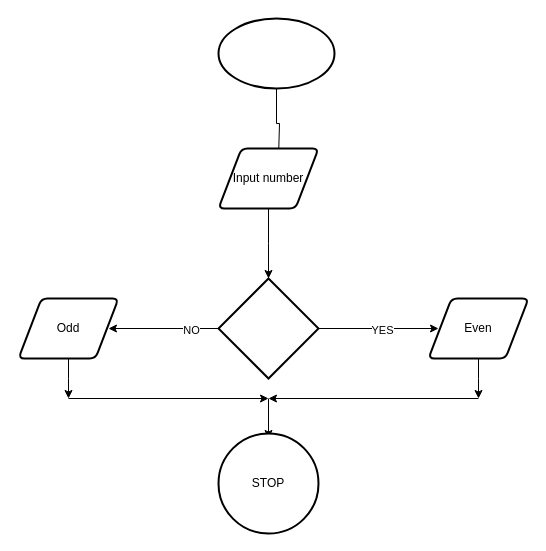
Image size: 546x551. Some labels were removed from this diagram. The shapes that lost their labels are listed below. From the top down, each one's box as (x1, y1, x2, y2) in pixels, then its label:
(217, 17, 335, 89): Start
(217, 277, 319, 379): Check if the number is divisible by 2
